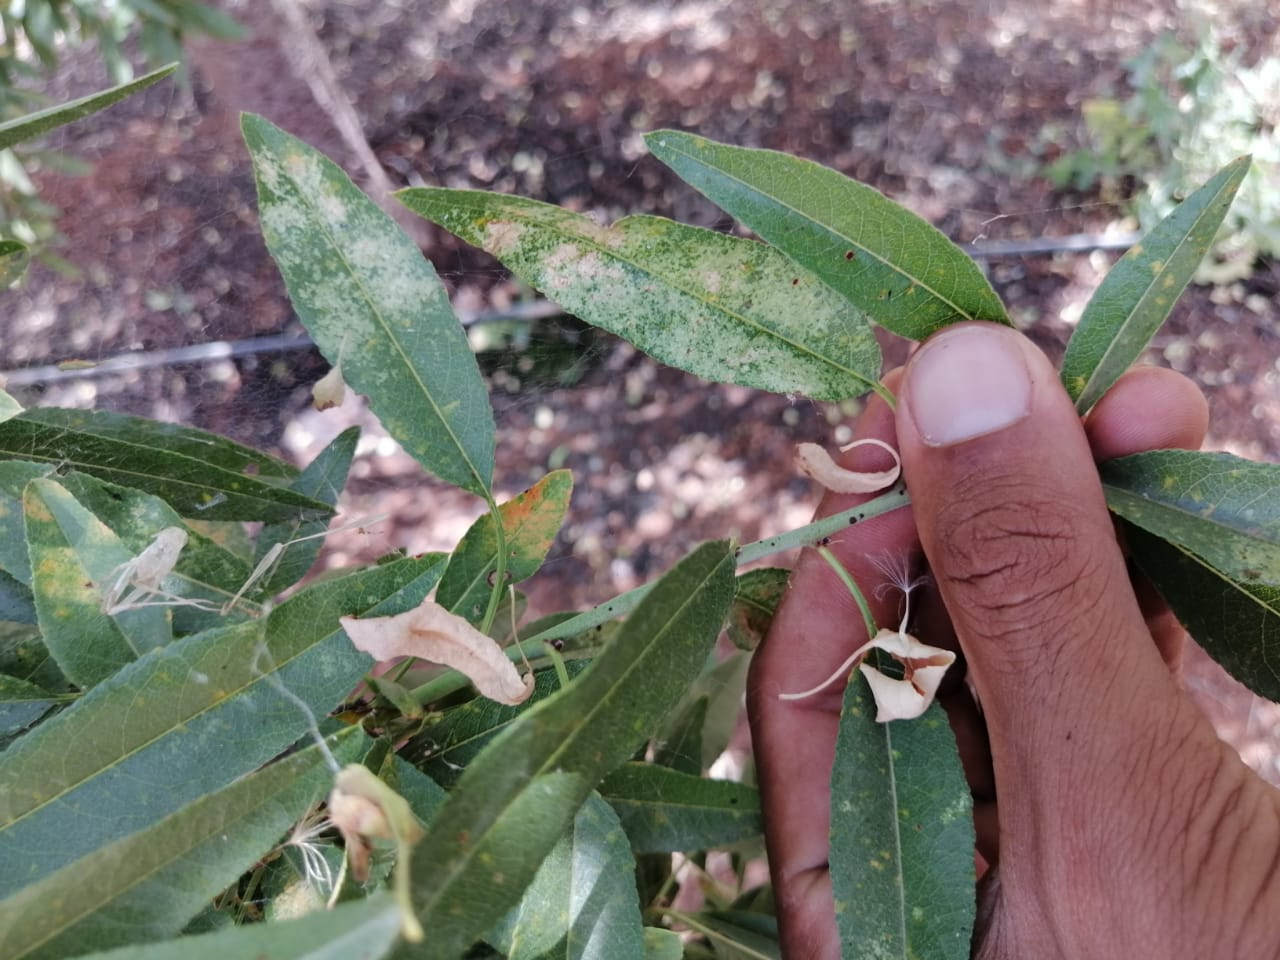faux tigre: (390, 186, 882, 401), (236, 108, 499, 494)
